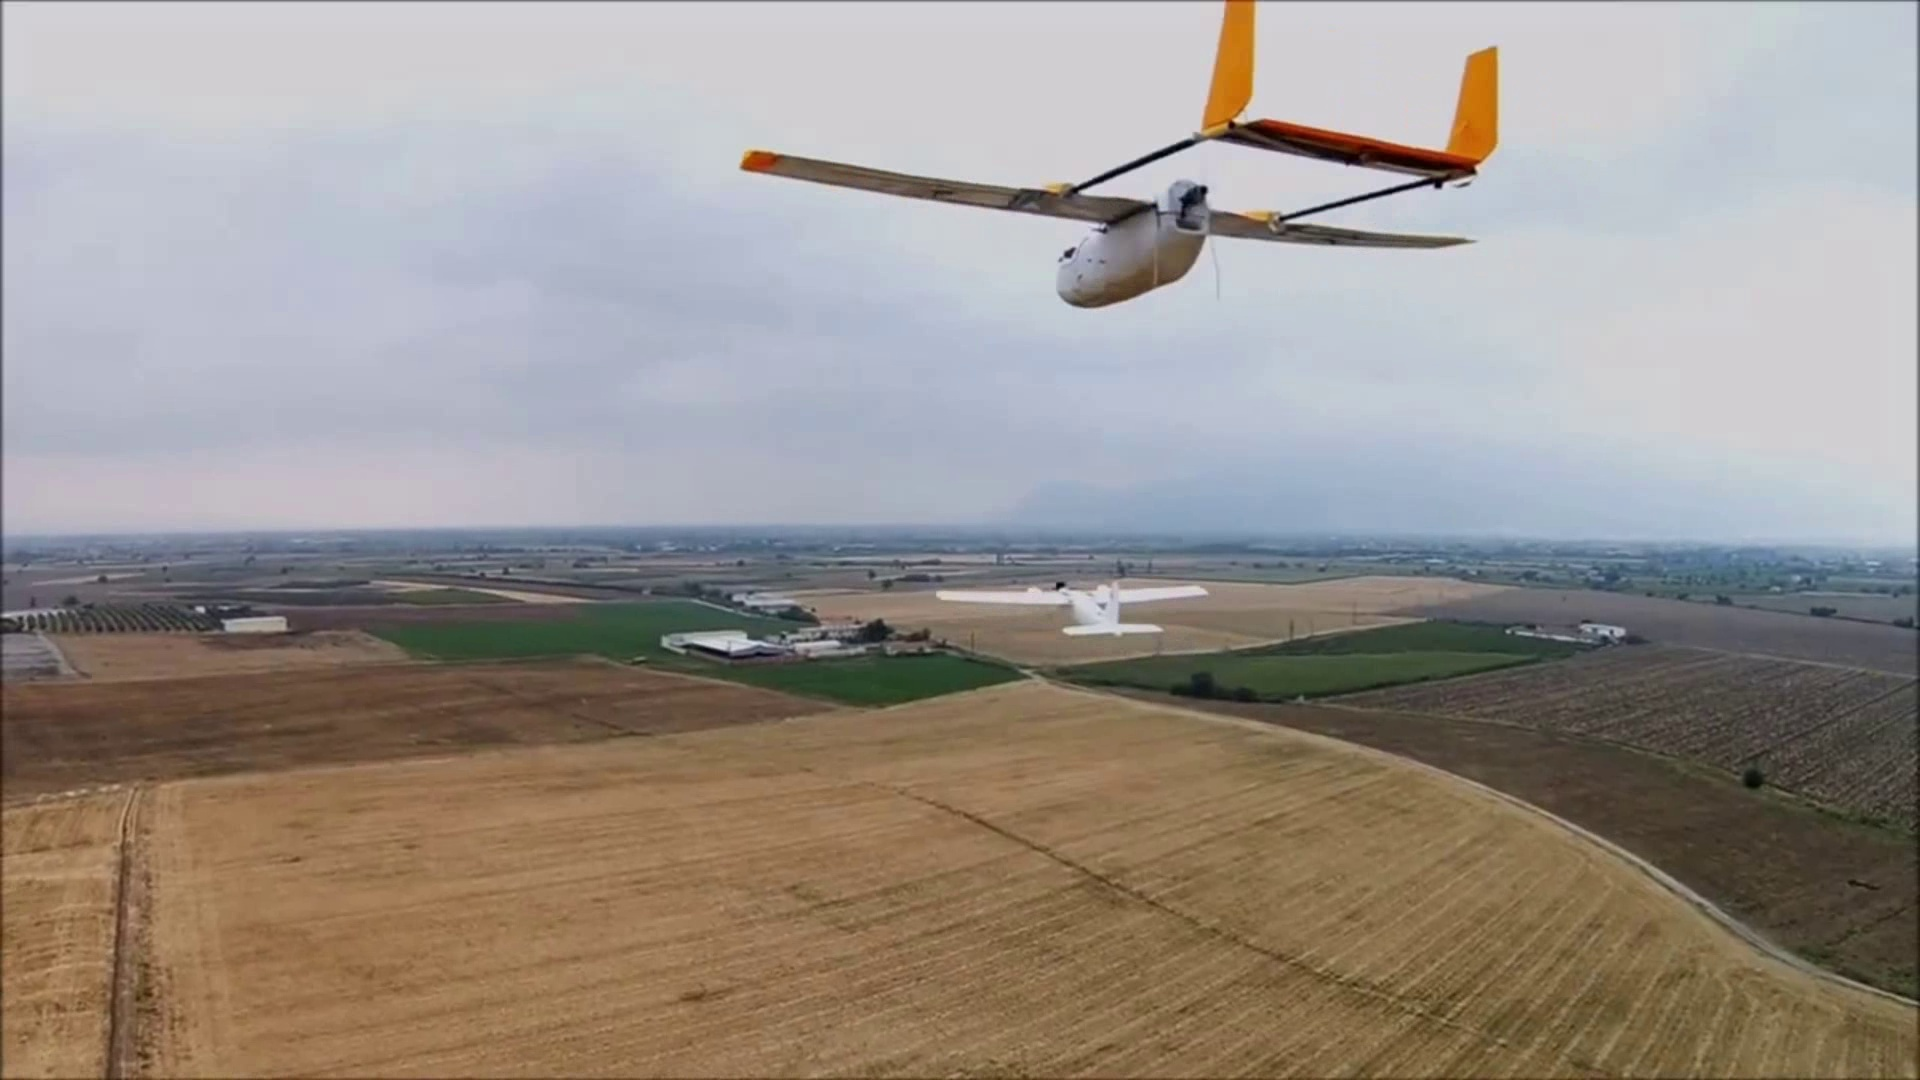airplane: (735, 4, 1502, 310)
